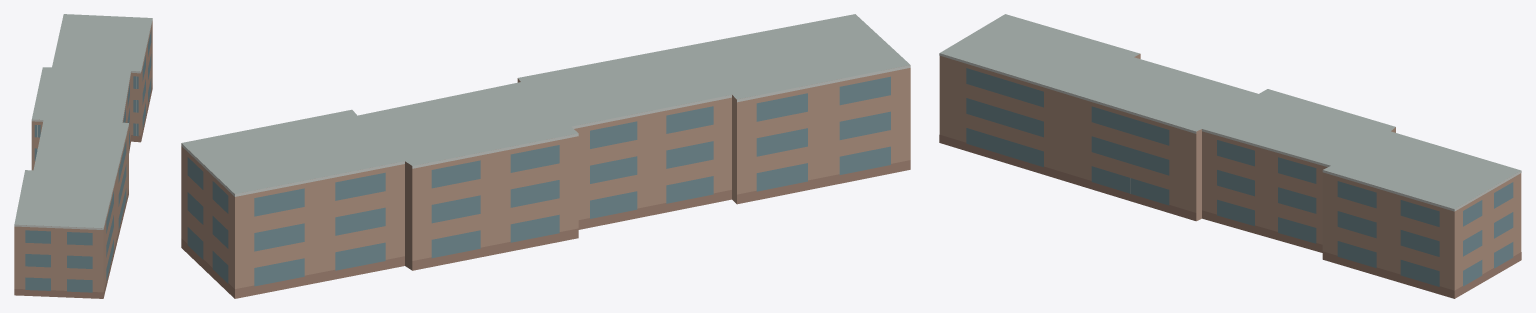
Rendered from survey-upis-32591060.glb.
3 views of the same model, side by side, from view 1: azimuth 30°, elevation 25°; view 2: azimuth 150°, elevation 25°; view 3: azimuth 270°, elevation 25° (orthographic). The views are drawn at different scales.
Parts seen in each view (by area): view 1: survey-upis-32591060.tmp; view 2: survey-upis-32591060.tmp; view 3: survey-upis-32591060.tmp.
Part boxes in pixels (x1=…): survey-upis-32591060.tmp: x1=14, y1=14, x2=152, y2=298; survey-upis-32591060.tmp: x1=181, y1=14, x2=910, y2=298; survey-upis-32591060.tmp: x1=939, y1=14, x2=1521, y2=298.
Bounding box in the file's own units: 42.7 × 9.15 × 53.79.
